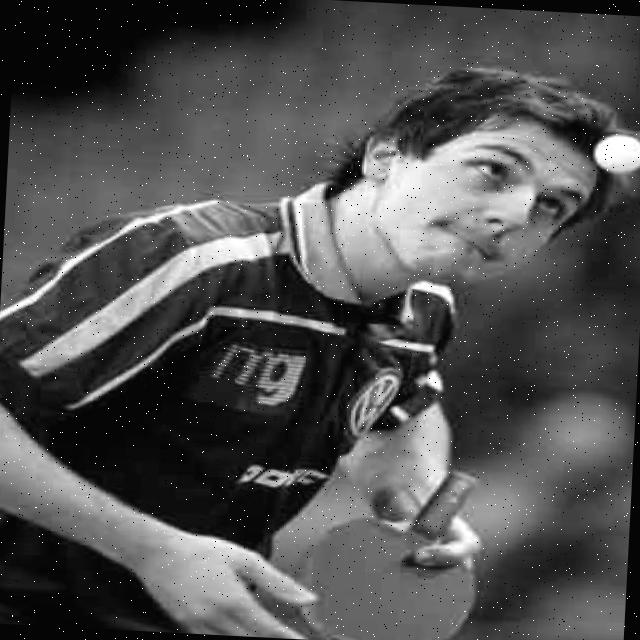ping-pong-ball: (582, 126, 640, 180)
